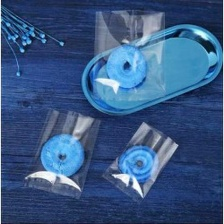snack: (16, 101, 105, 204), (87, 3, 171, 106), (95, 115, 184, 208)
